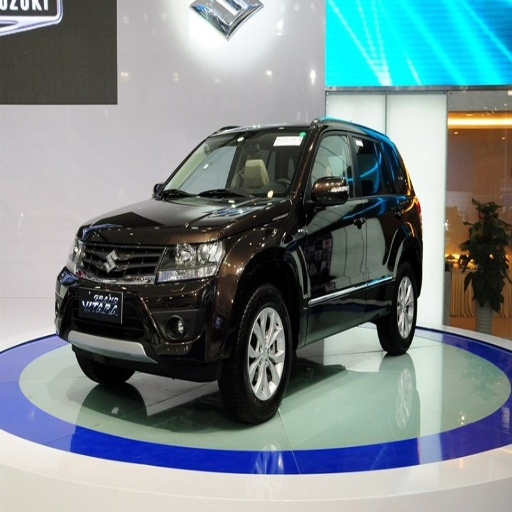back_glass: (423, 13, 494, 54)
front_bumper: (57, 228, 237, 367)
front_glass: (156, 132, 307, 197)
front_left_door: (303, 125, 366, 308)
